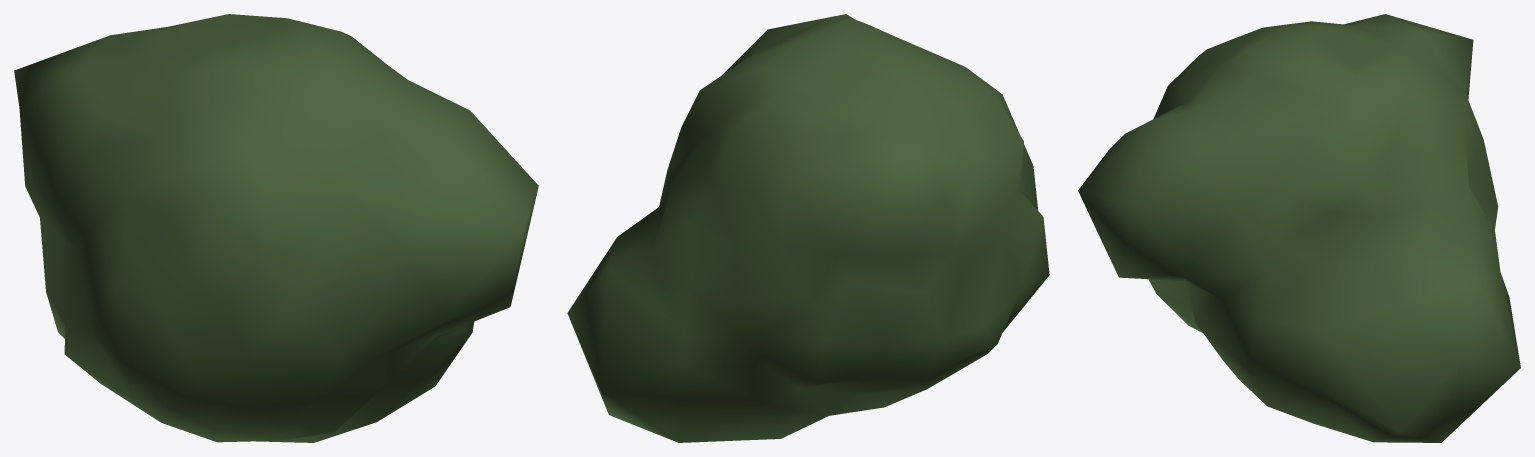
Rendered from p_mesh_trashbot_sprayprojectile_drop_pose0.fbx.
3 renders of one model, left to right at view 1: azimuth 30°, elevation 25°; view 2: azimuth 150°, elevation 25°; view 3: azimuth 270°, elevation 25°, orthographic. The views are drawn at different scales.
Visible parts, largest first — view 1: p_mesh_trashbot_sprayprojectile_drop_pose0; view 2: p_mesh_trashbot_sprayprojectile_drop_pose0; view 3: p_mesh_trashbot_sprayprojectile_drop_pose0.
Boxes of the visible parts, box(x1,y1,x2,y2) form: p_mesh_trashbot_sprayprojectile_drop_pose0: box(14, 14, 538, 442); p_mesh_trashbot_sprayprojectile_drop_pose0: box(567, 14, 1049, 442); p_mesh_trashbot_sprayprojectile_drop_pose0: box(1078, 14, 1520, 442).
Size of the model in its own units: 2.16 by 2.16 by 2.49.
